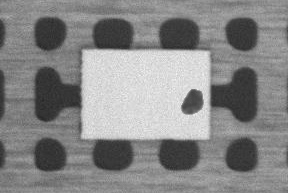DIE_INK: (178, 88, 204, 115)
